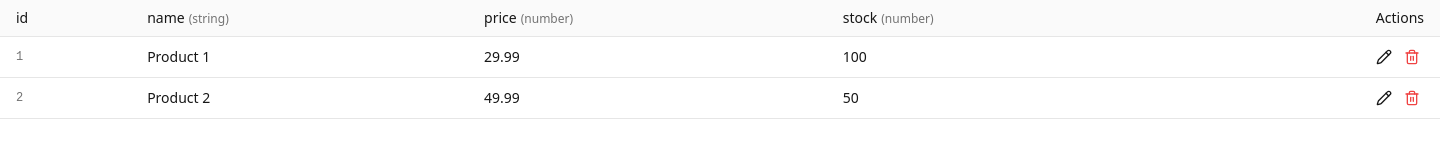
DataTable › should show edit form when edit button is clicked
This screenshot has width=1440, height=160.
Click the button titled "Edit" in the row of "Product 1": x=1384, y=57 [1372,45,1396,69]
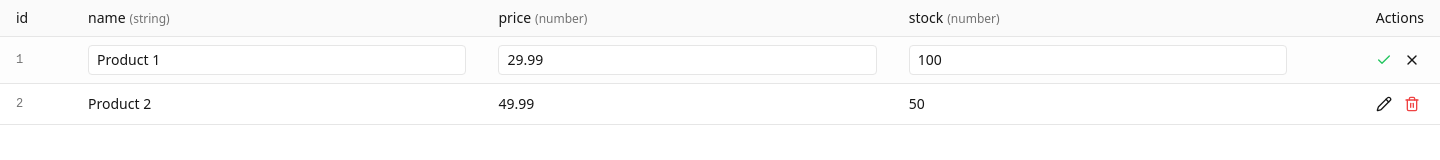
Expected: the 1st field is shown, [88,45,466,75]
Expected: the button titled "Save" is shown, [1372,48,1396,72]
Expected: the button titled "Cancel" is shown, [1400,48,1424,72]
